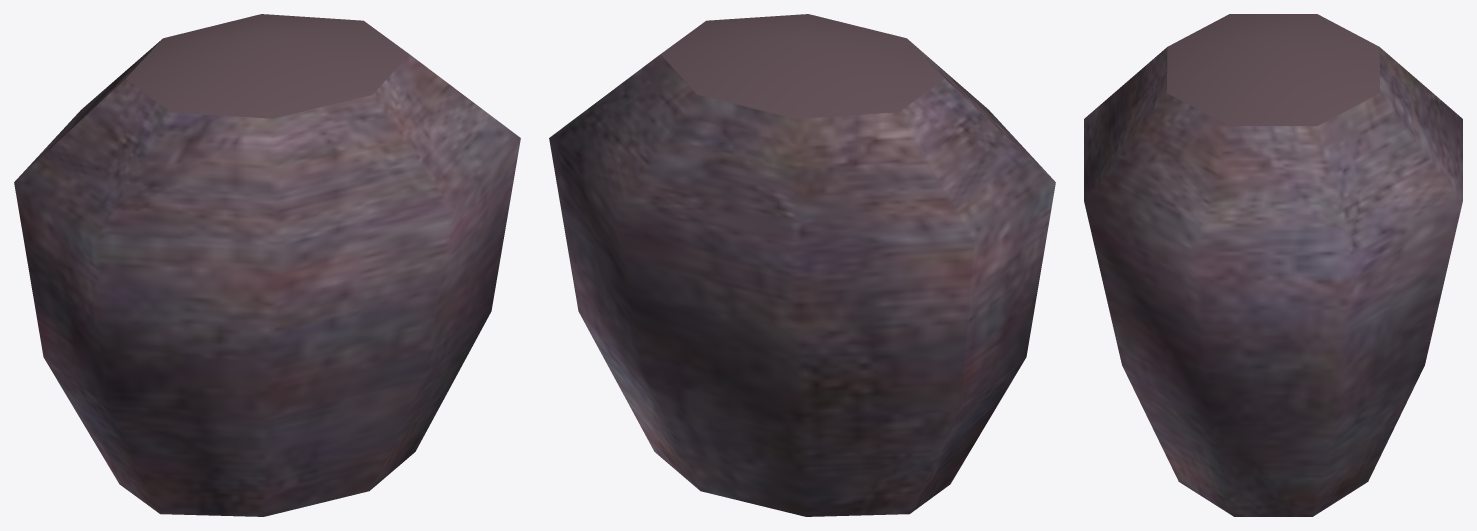
The model's file is servant_torso.gltf.
3 views of the same model, side by side, from view 1: azimuth 30°, elevation 25°; view 2: azimuth 150°, elevation 25°; view 3: azimuth 270°, elevation 25° (orthographic). The views are drawn at different scales.
Parts seen in each view (by area): view 1: Mesh_0; view 2: Mesh_0; view 3: Mesh_0.
Part boxes in pixels (x1,y1,x2,y2): Mesh_0: [14, 14, 520, 516]; Mesh_0: [549, 14, 1055, 516]; Mesh_0: [1084, 14, 1462, 516].
Size of the model in its own units: 0.4506 by 0.4369 by 0.3604.
1 material, 1 textured.
